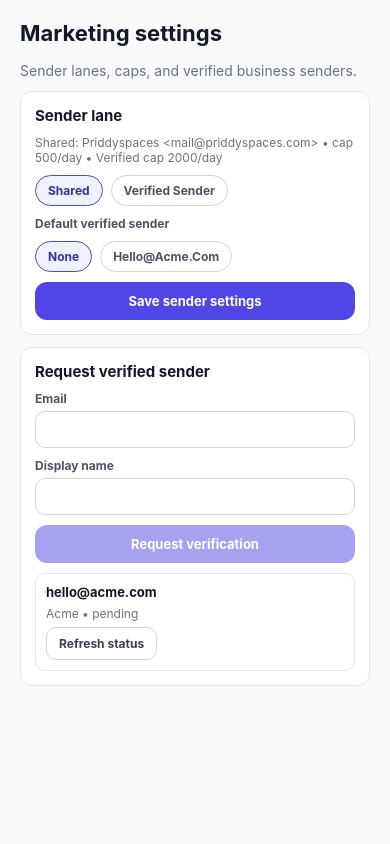
Test: OwnerMarketingSettingsScreen › requests a verified sender and refreshes status
In the field named "Verified sender email": (195, 430) [35, 411, 355, 448], type "founder@acme.com"
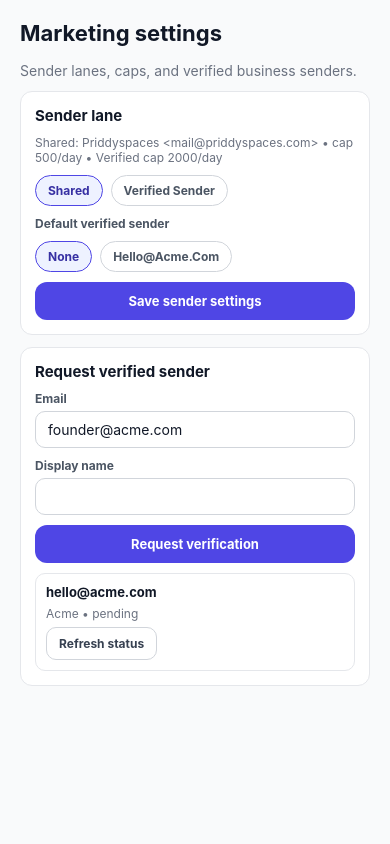
In the field named "Verified sender name": (195, 496) [35, 478, 355, 515], type "Acme Founder"
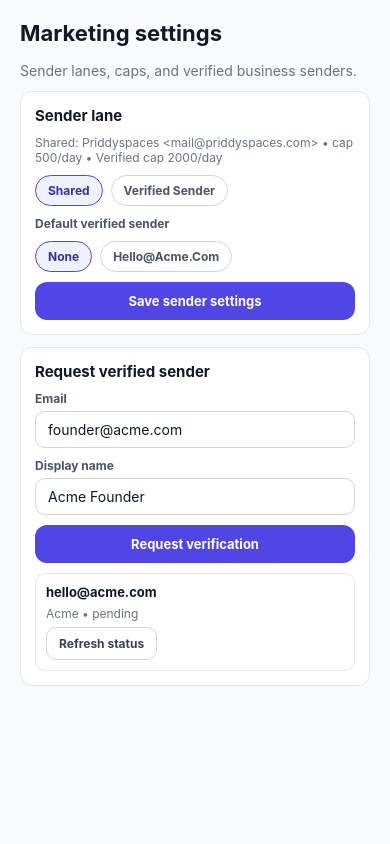
Click the button with aria-label "Request verified sender": (195, 544) [35, 525, 355, 563]
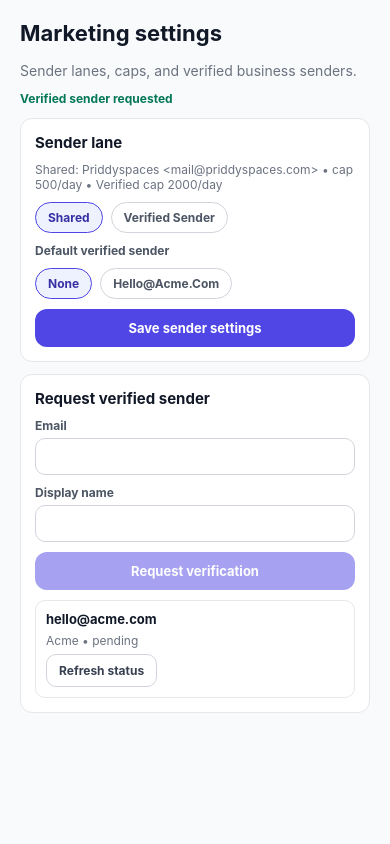
Expected: the text "Verified sender requested" is shown, [20, 91, 173, 106]
Click the button with aria-label "Refresh vs_1": (102, 670) [46, 654, 157, 687]
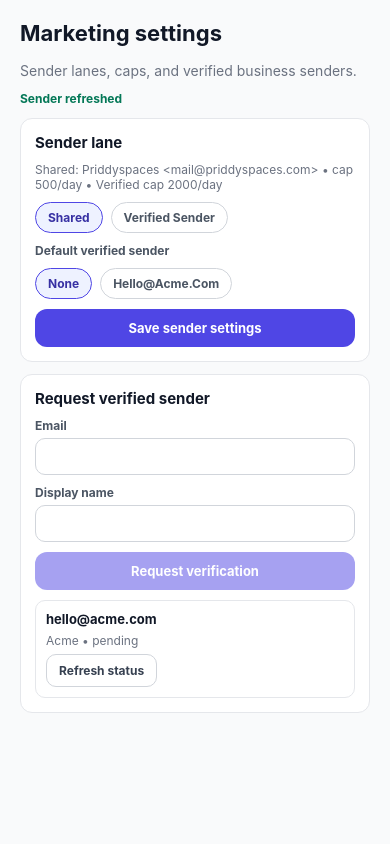
Expected: the text "Sender refreshed" is shown, [20, 91, 122, 106]
